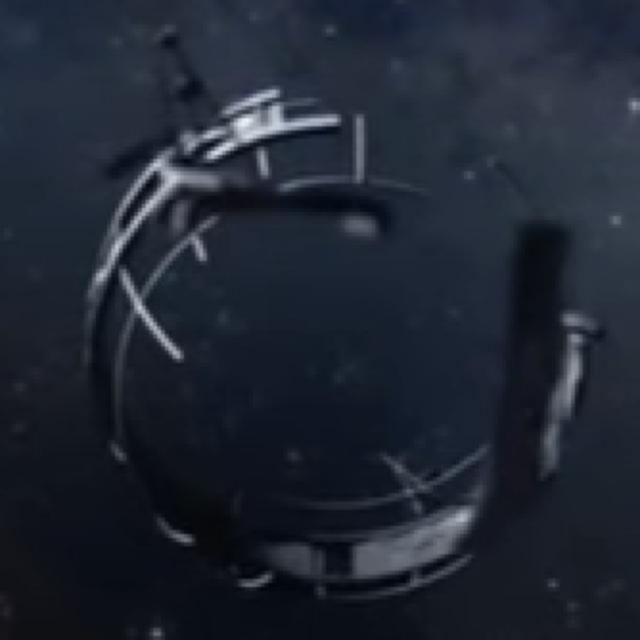large_debris: (25, 18, 640, 639)
